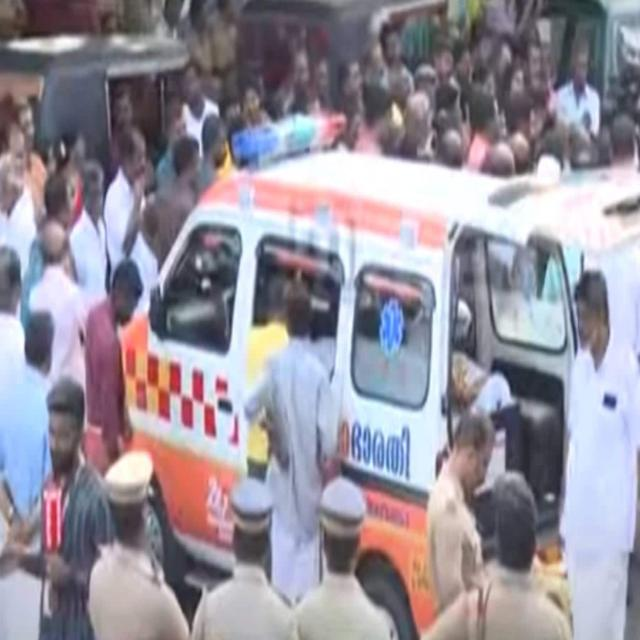emergency: (122, 151, 640, 635)
